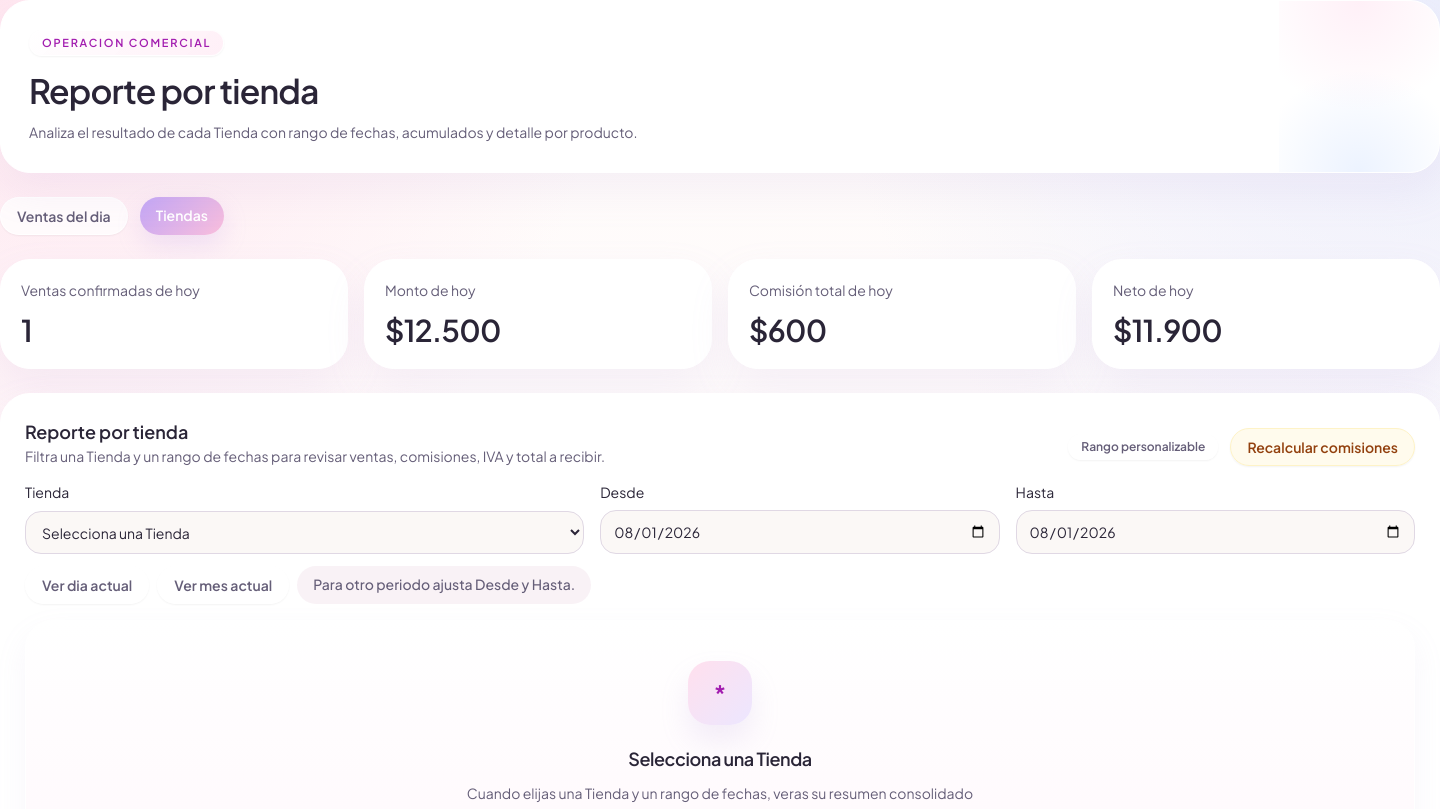
Test case: SalesTodayPage › renders the tienda report for admin users
Expected: the heading "Reporte por tienda" below "Operacion comercial" is shown, [29,69,318,111]
Select "Camila" in the dropdown labelled "Tienda" at coordinates (305, 532), box [25,511,584,554]
(page scrolled)
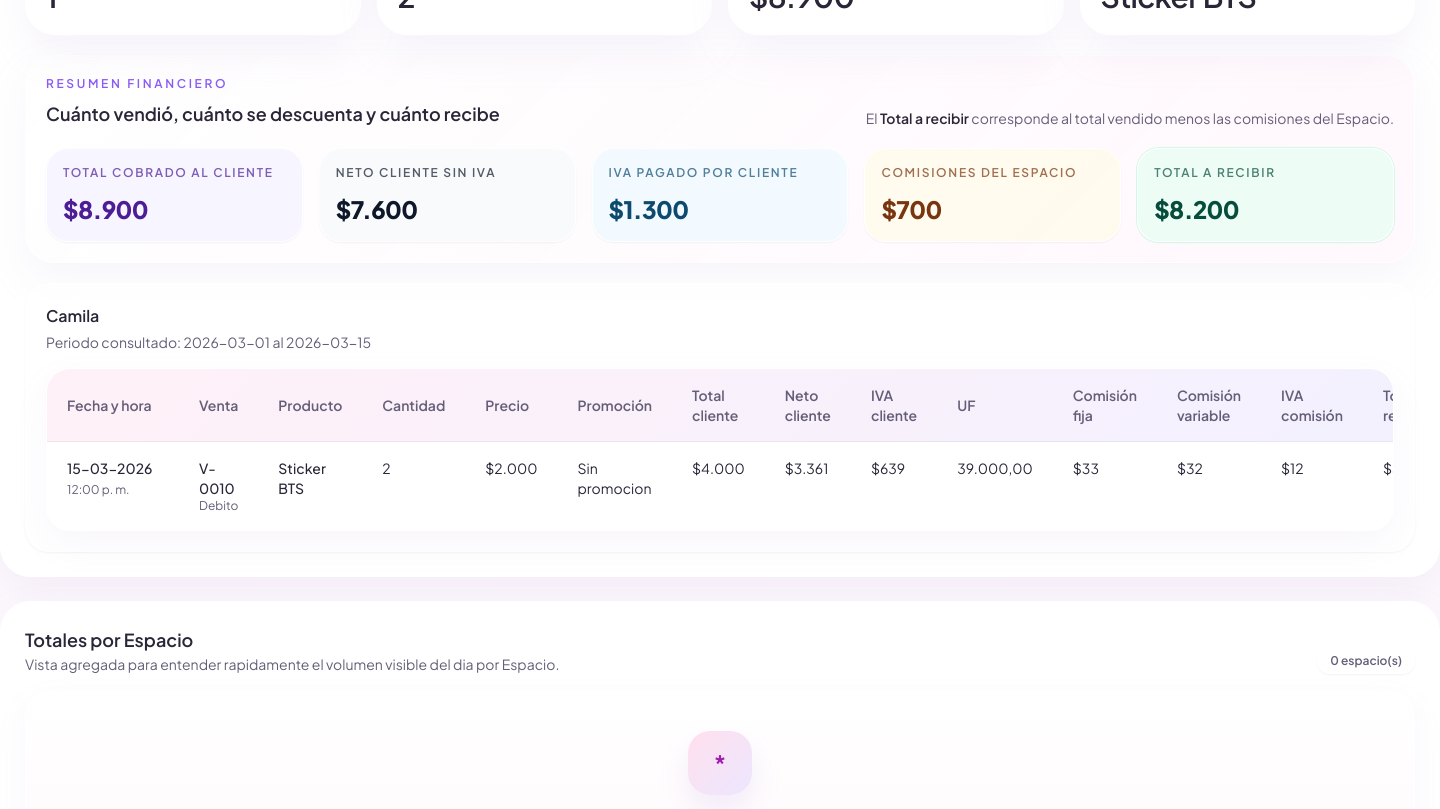
Result: the heading "Camila" is shown at [46,305,99,326]
Result: the 1st text "Total a recibir" is shown at [880,109,969,127]
Result: the column heading "Comisión fija" is shown at [1053,369,1157,442]
